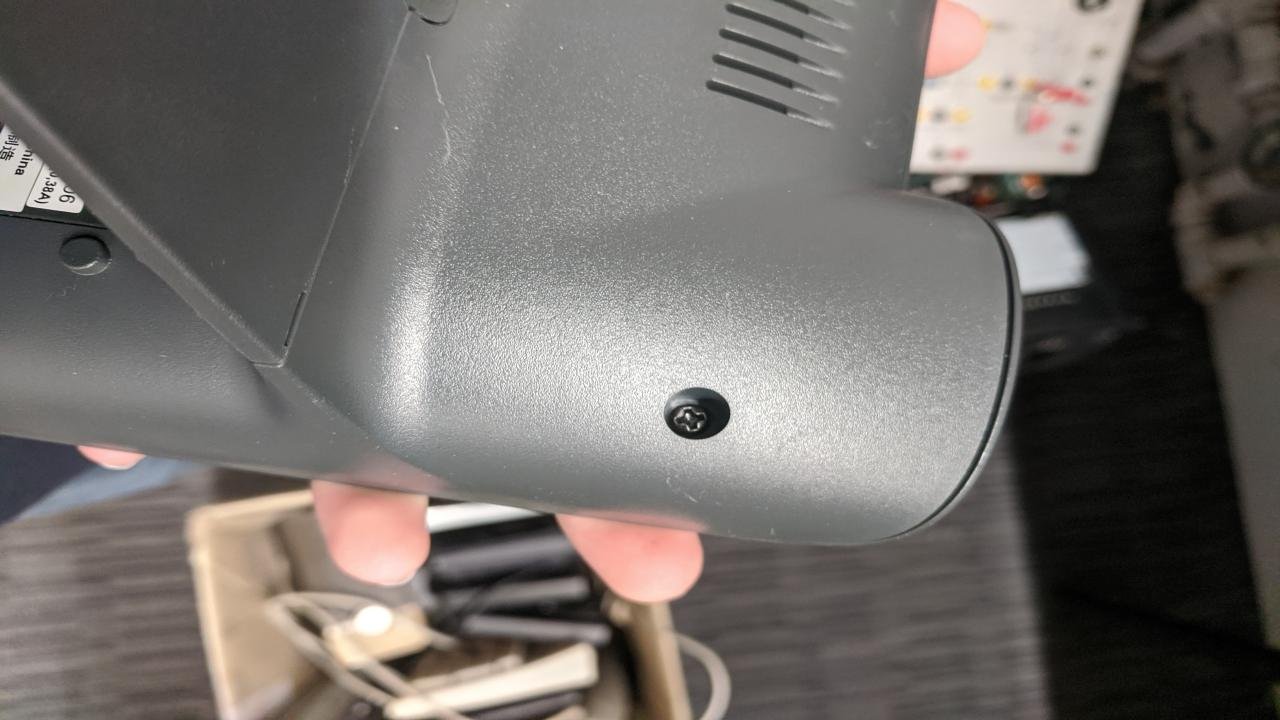CRS: (663, 401, 712, 435)
